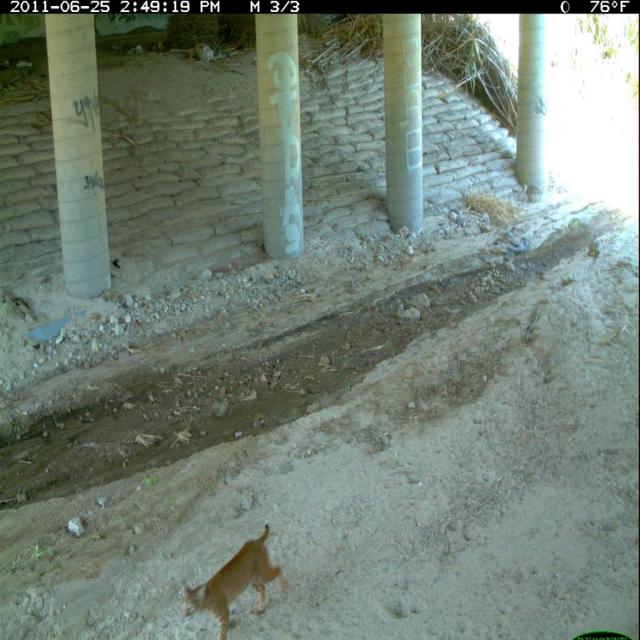bobcat: (180, 519, 294, 640)
